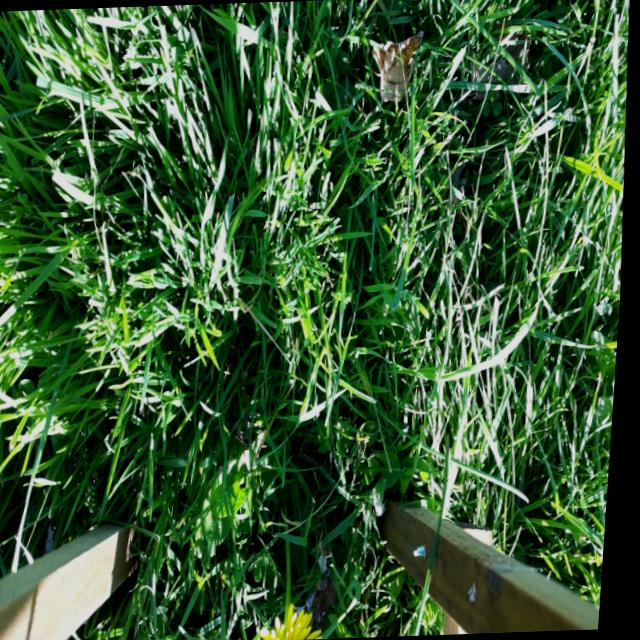base: (281, 508, 308, 546)
